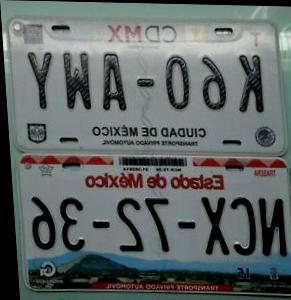License_Plate: (4, 16, 287, 160), (14, 156, 291, 297)
